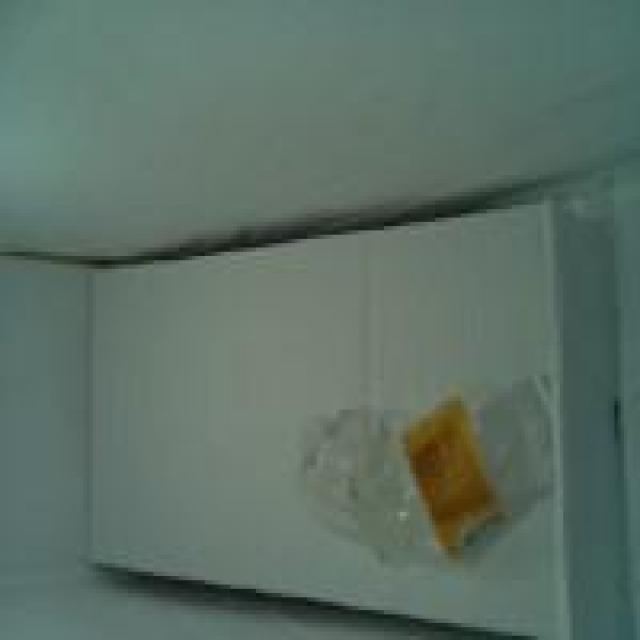bottle: (281, 379, 585, 582)
